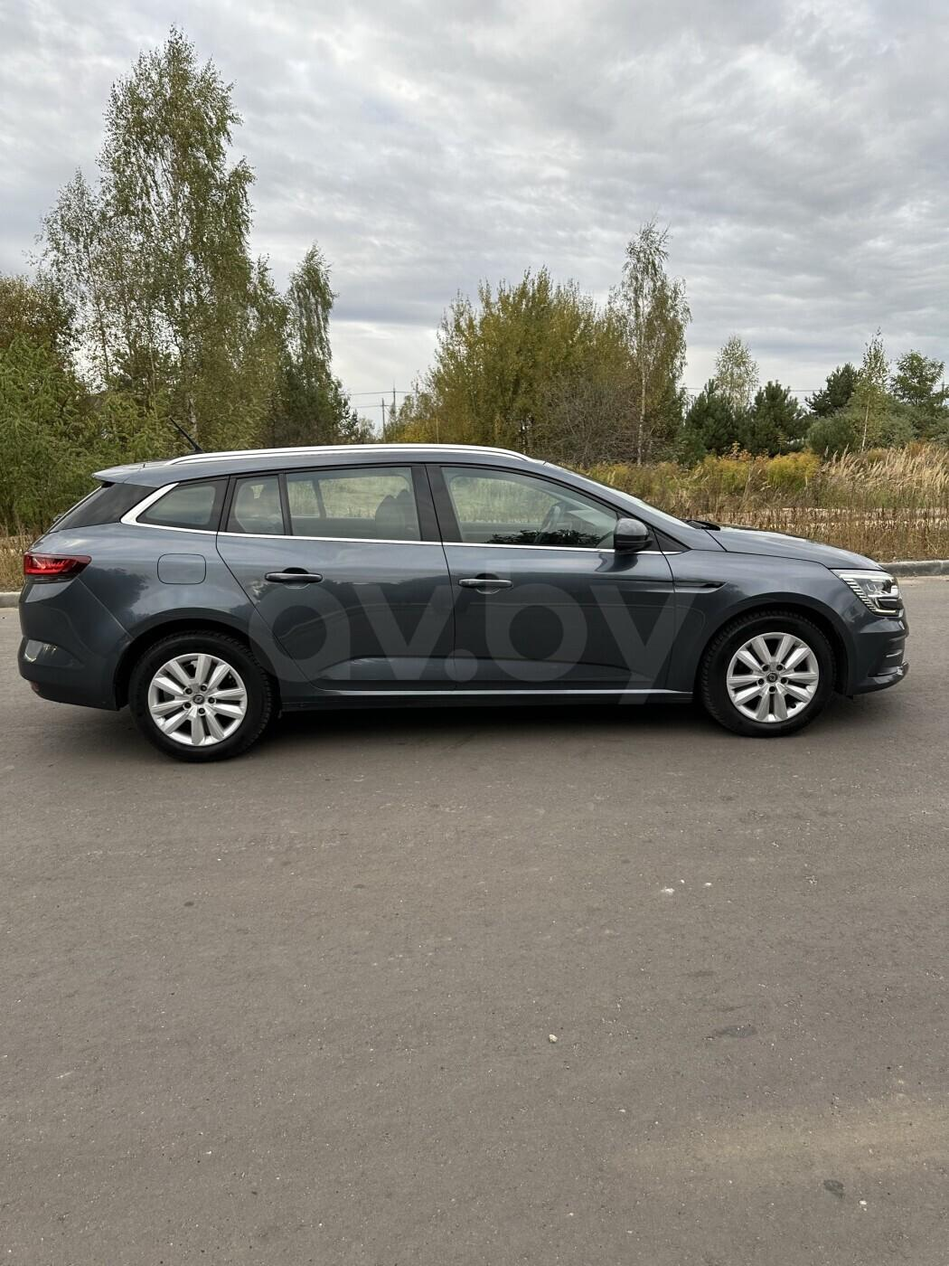Megane_2020: (25, 430, 897, 774)
